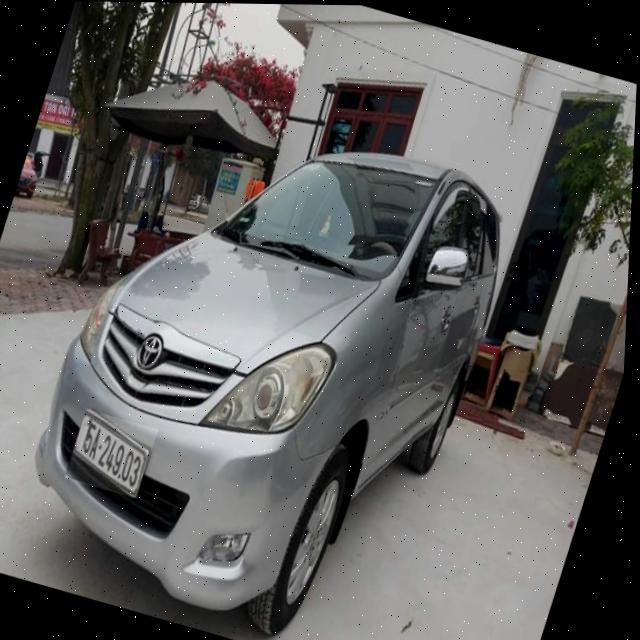car: (3, 69, 542, 640)
plate: (57, 405, 162, 501)
